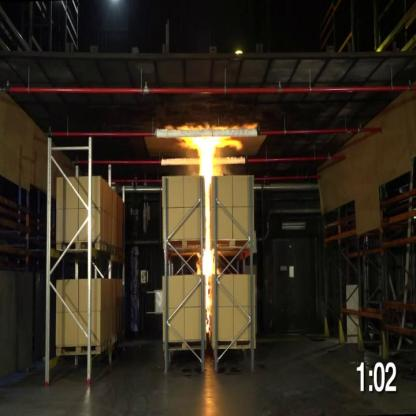fire: (166, 123, 241, 175), (196, 178, 218, 343)
